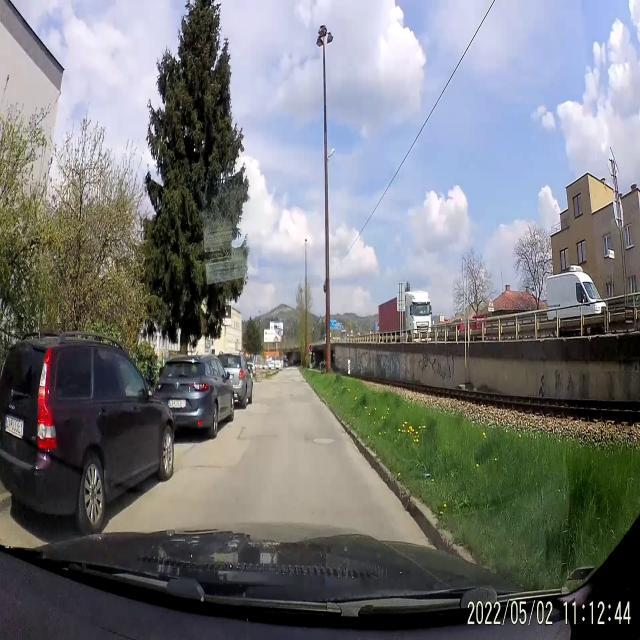Manhole: (306, 430, 336, 449)
